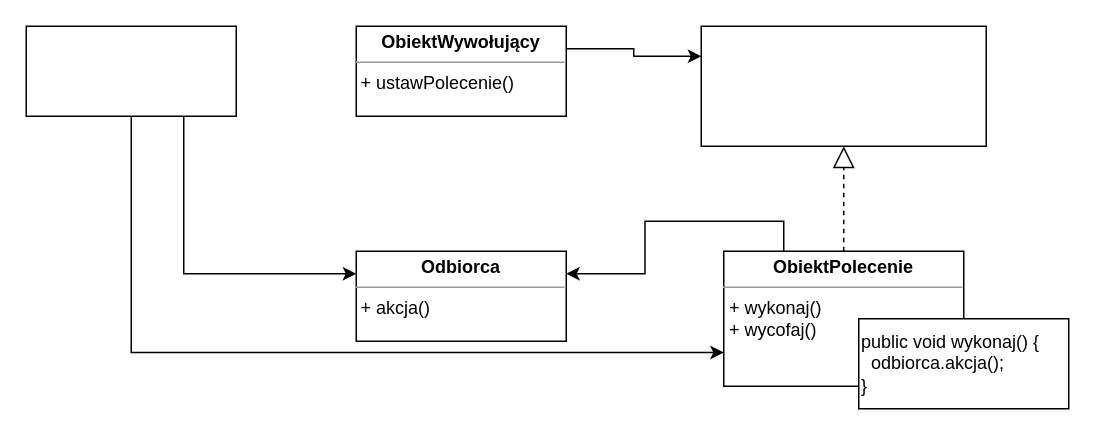
Some shapes in this 1095 by 435 pixel diagram are drawn without their labels. The box of each missing label's shape, as (x1, y1, x2, y2) in pixels:
<<Interface>> Polecenie + wykonaj() + wycofaj(): (700, 25, 986, 146)
Klient: (25, 25, 236, 116)
